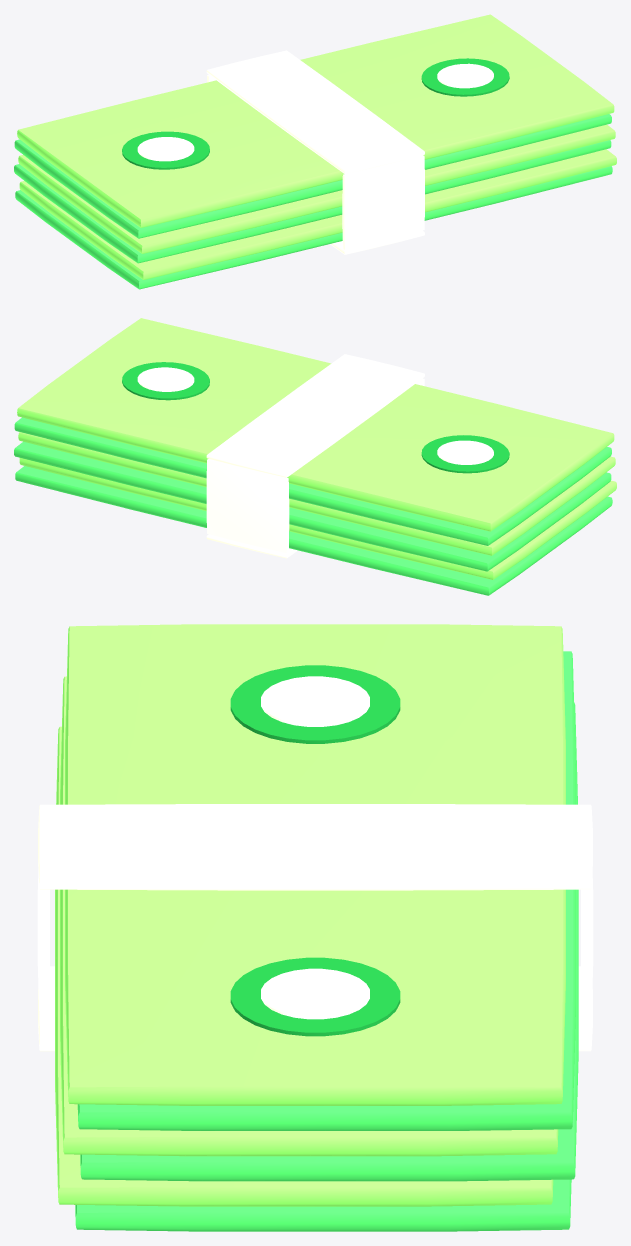
3 renders of one model, top to bottom at view 1: azimuth 30°, elevation 25°; view 2: azimuth 150°, elevation 25°; view 3: azimuth 270°, elevation 25°, orthographic. The views are drawn at different scales.
Visible parts, largest first — view 1: Money-whole; view 2: Money-whole; view 3: Money-whole.
Boxes of the visible parts, x1,y1,x2,y2 form: Money-whole: [14, 14, 616, 289]; Money-whole: [14, 318, 616, 595]; Money-whole: [37, 624, 593, 1231].
Size of the model in its own units: 0.9167 by 0.1583 by 0.4625.
